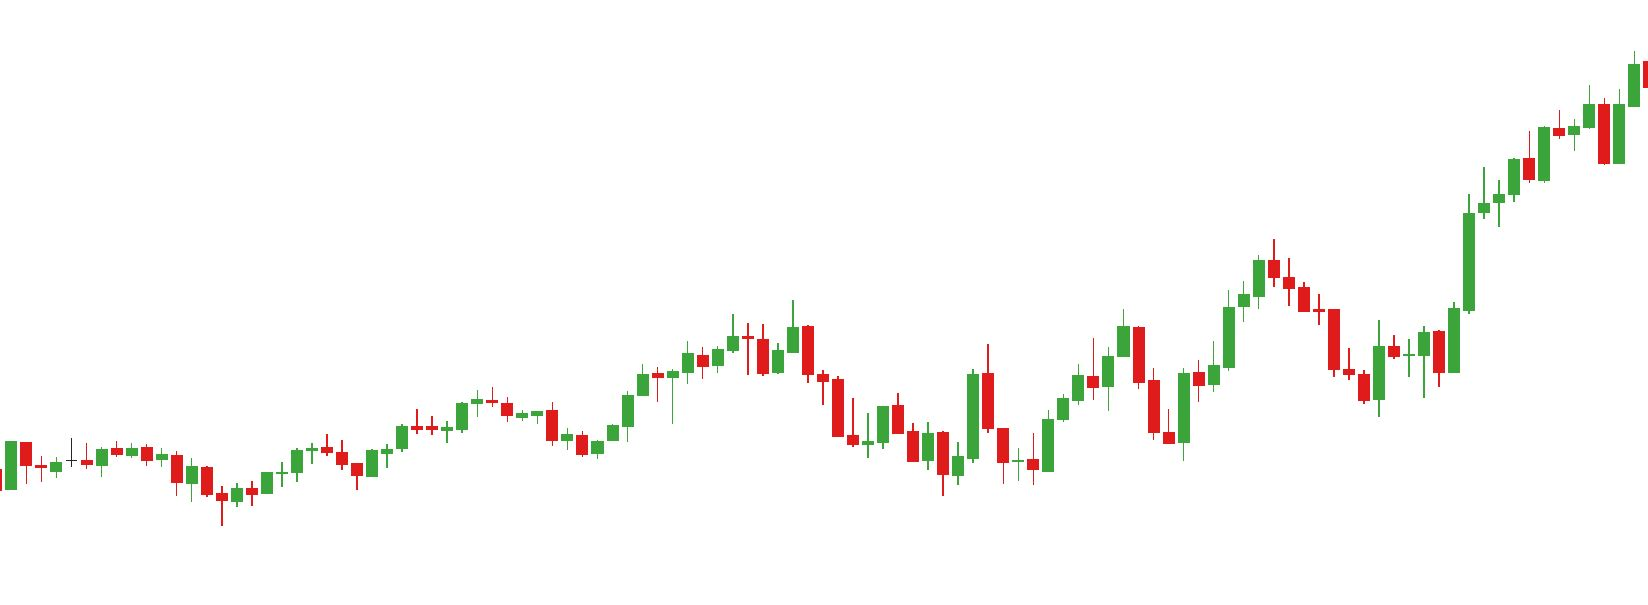buy: (1189, 305, 1389, 412)
